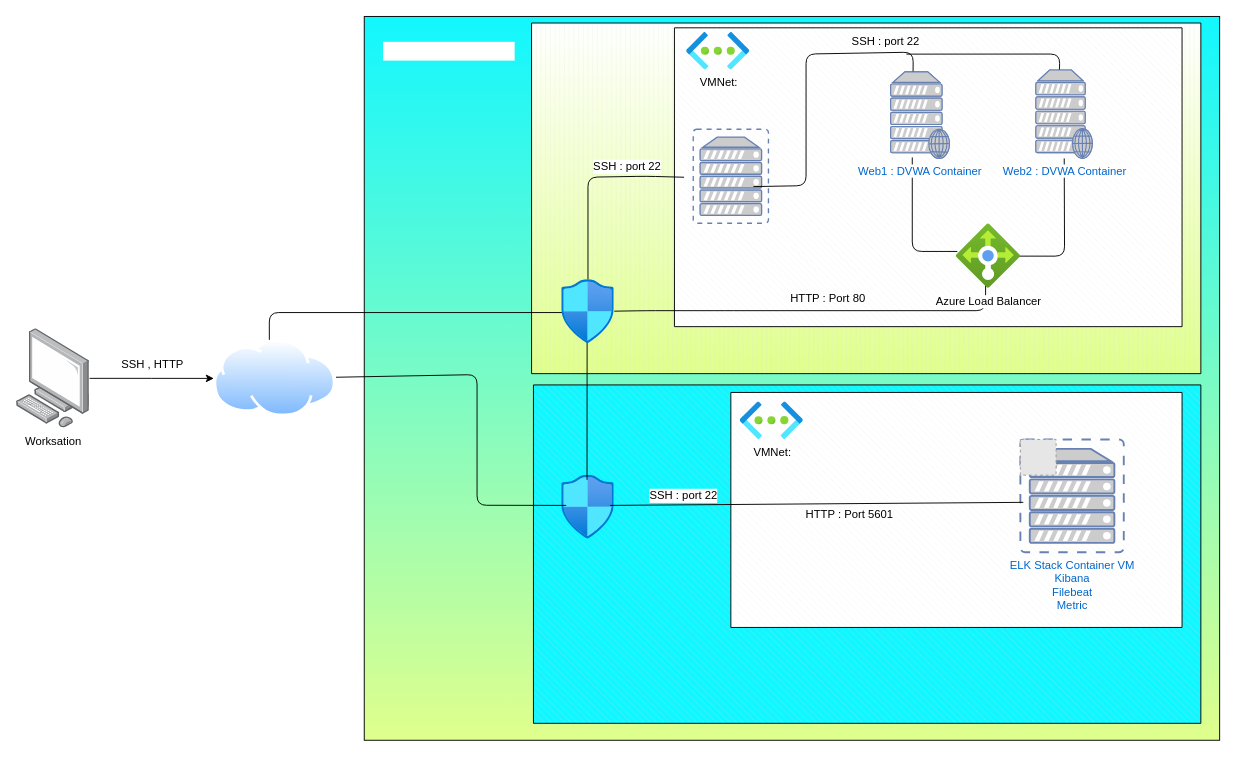
The diagram is 1236 pixels wide and 757 high, and some of its shapes have lost their labels. Grey dashed boxes stand in for pictures. The shapes that lost their labels are listed below. From the top down, each one's centre as x and y in pixels, then its label:
At point 448,50: "Azure Resource Group :".
At point 730,176: "JumpBoxVM Ansible control node".
At point 587,311: "Azure NSG:".
At point 274,377: "Internet".
At point 587,507: "Azure NSG: ELK".
